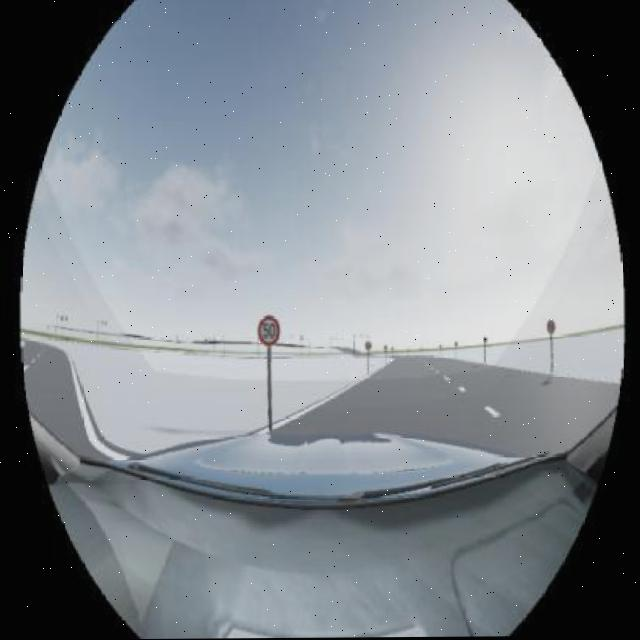Speed limit 50: (254, 313, 283, 349)
